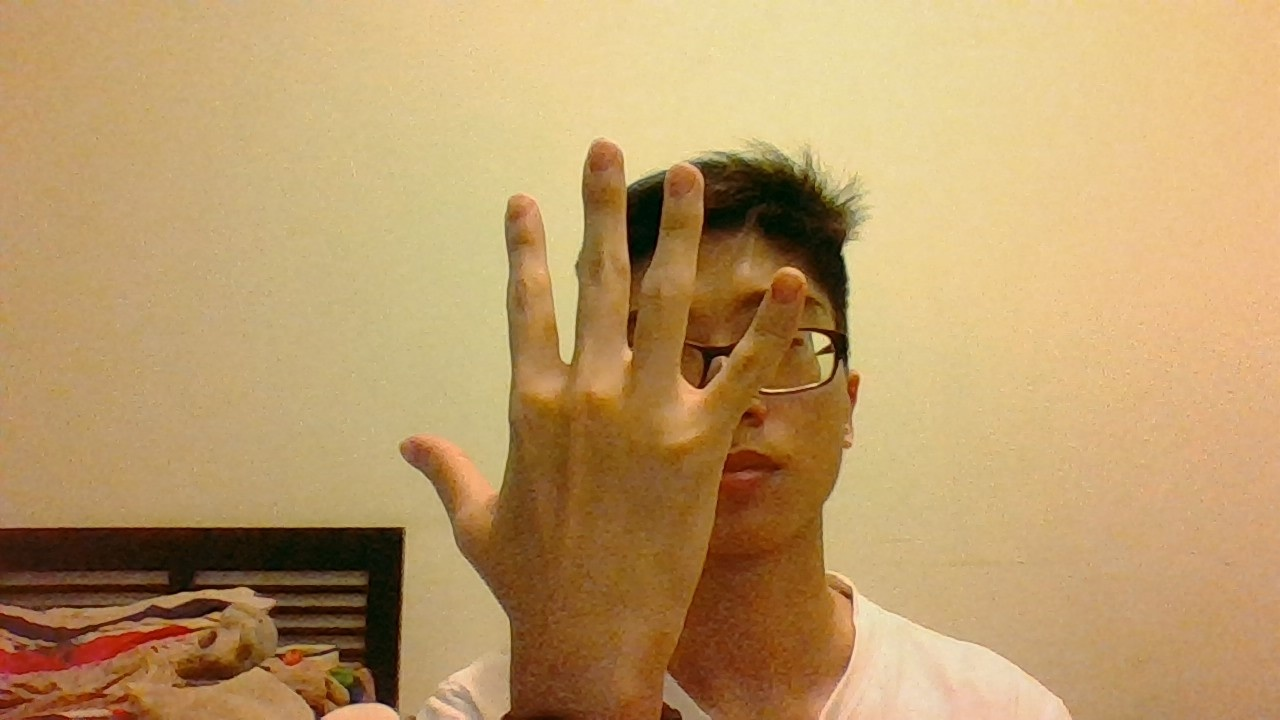Hello: (393, 134, 811, 643)
